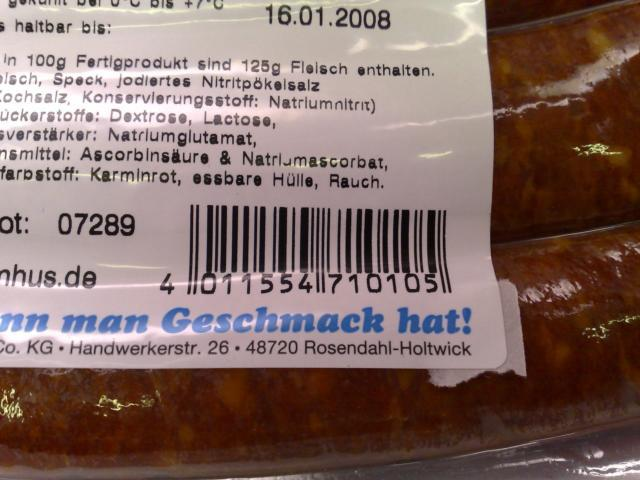Barcode: (154, 197, 468, 304)
